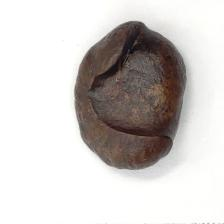NG: (84, 55, 173, 147), (117, 11, 172, 54)
